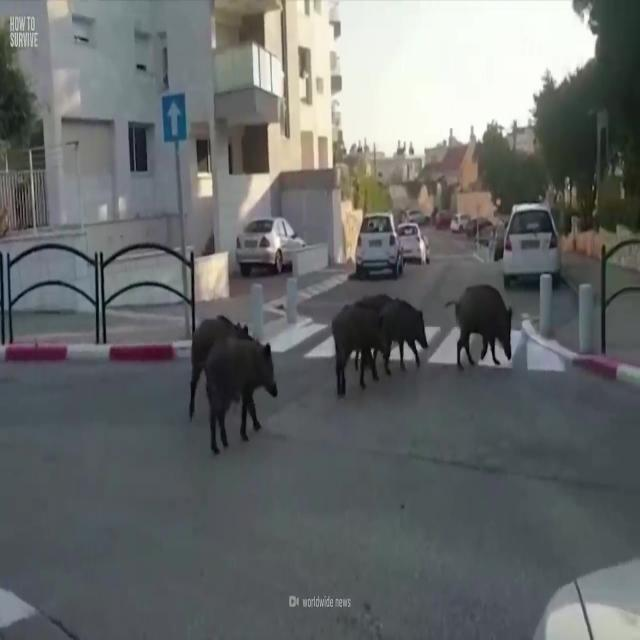pig: (445, 258, 521, 398), (202, 311, 272, 445), (326, 297, 390, 412), (378, 276, 426, 380), (185, 290, 232, 370)
